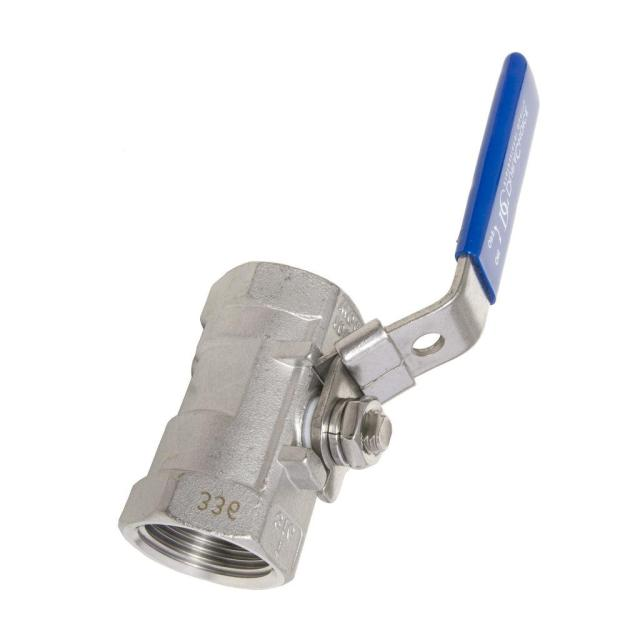opened_valve: (117, 48, 542, 589)
